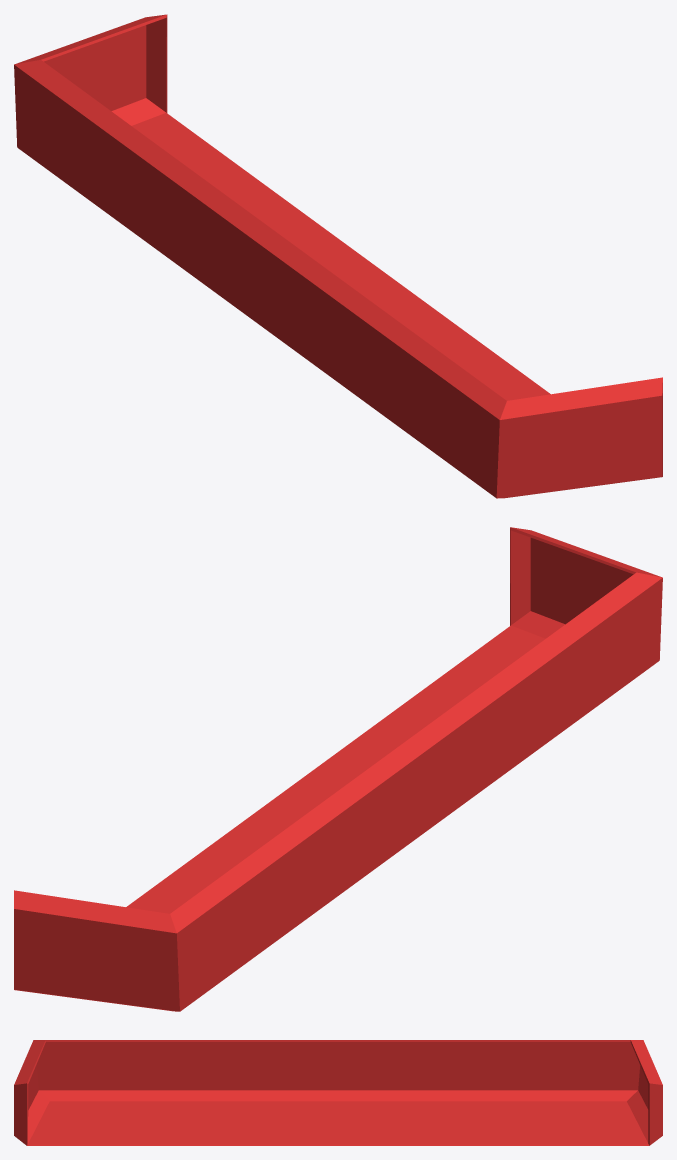
Rendered from backbumper.fbx.
The picture shows the model from 3 angles, top to bottom: view 1: azimuth 30°, elevation 25°; view 2: azimuth 150°, elevation 25°; view 3: azimuth 270°, elevation 25°; orthographic projection. The views are drawn at different scales.
Visible parts, largest first — view 1: BackBumper; view 2: BackBumper; view 3: BackBumper.
Part boxes in pixels (x1,y1,x2,y2): BackBumper: (14, 14, 662, 498); BackBumper: (14, 527, 662, 1011); BackBumper: (14, 1040, 662, 1145).
Size of the model in its own units: 65.8 by 39.67 by 373.
